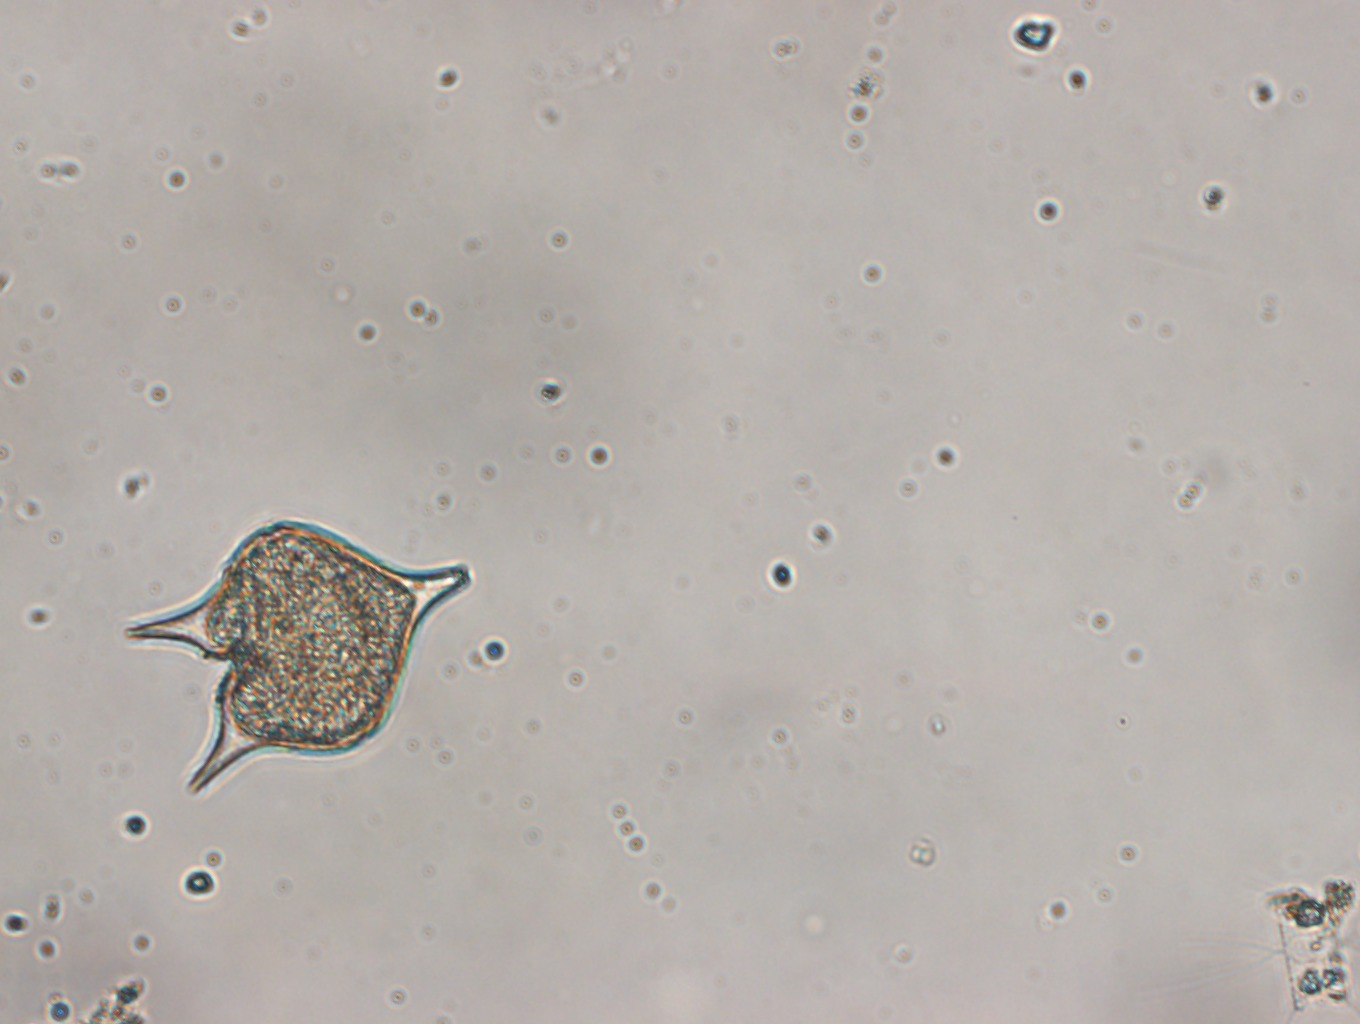protoperidinium: (118, 503, 474, 799)
